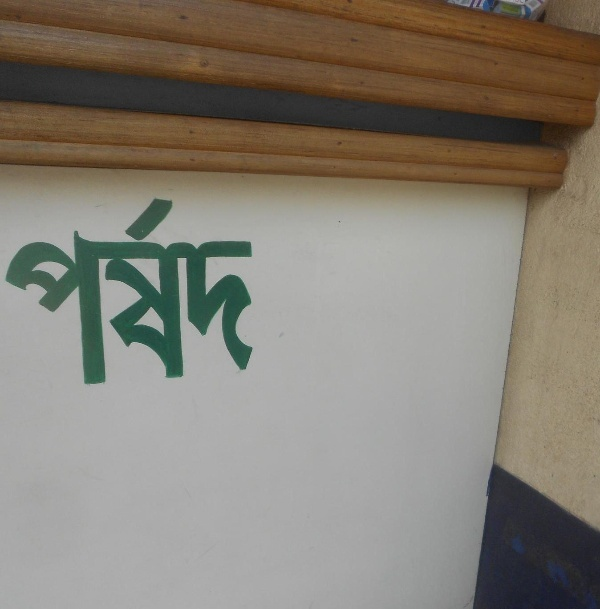text: (1, 195, 16, 390), (17, 195, 32, 390), (33, 195, 48, 390), (49, 195, 64, 390), (65, 195, 80, 390), (81, 195, 96, 390), (97, 195, 112, 390), (113, 195, 128, 390), (129, 195, 144, 390), (145, 195, 160, 390), (161, 195, 176, 390), (177, 195, 192, 390), (193, 195, 208, 390), (209, 195, 224, 390), (225, 195, 240, 390), (241, 195, 256, 390), (257, 195, 262, 390)
